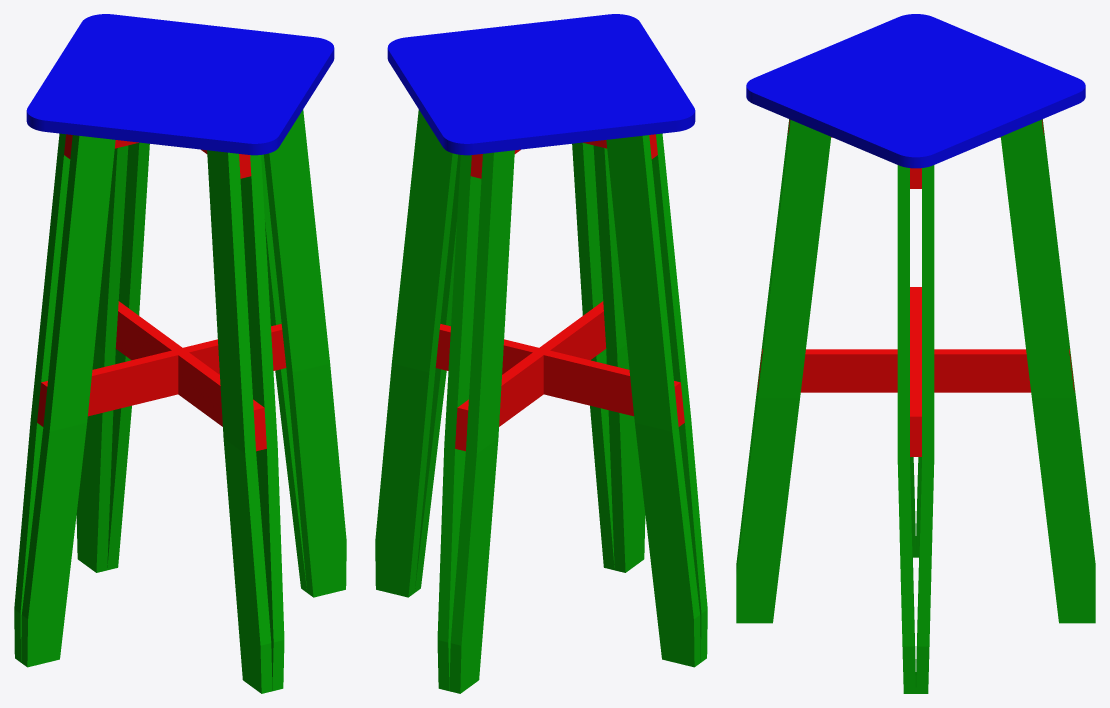
File: result.glb
3 renders of one model, left to right at view 1: azimuth 30°, elevation 25°; view 2: azimuth 150°, elevation 25°; view 3: azimuth 270°, elevation 25°, orthographic. The views are drawn at different scales.
Parts seen in each view (by area): view 1: ac48f9e8-8bb6-4f81-831a-7cd6fb4d7293__undefined, fe015a66-c66c-4ea3-808d-b0f506a33c2c__undefined, d3e96c64-802b-464c-a111-dfe788569f4e__undefined, 36583a39-9d2e-48af-a6d2-12d490e0a09f__Box_4, 166d1673-d001-4867-9418-6f4d2232541b__undefined, 543e61d7-7302-45e4-ac6e-f7c158e616a3__Box_5, 884e3ac6-a865-431b-b126-b31f9aebac6e__Box_6, 19409530-9d16-4f0f-ab0e-cc562a161333__undefined, eeed9c0c-a567-4d40-8e46-22b95cea1e4b__undefined, 1a3212c1-8f36-4970-8743-89f870450ae2__undefined, 548effa3-df00-43dc-b87c-98258f3cf627__undefined, f84e4fed-e091-450c-b2a9-9f77f04cbf19__undefined (+1 smaller); view 2: 1a3212c1-8f36-4970-8743-89f870450ae2__undefined, e4e11fc0-a316-40ad-8a4a-af0a145b0a9e__undefined, 19409530-9d16-4f0f-ab0e-cc562a161333__undefined, 884e3ac6-a865-431b-b126-b31f9aebac6e__Box_6, 543e61d7-7302-45e4-ac6e-f7c158e616a3__Box_5, 36583a39-9d2e-48af-a6d2-12d490e0a09f__Box_4, eeed9c0c-a567-4d40-8e46-22b95cea1e4b__undefined, d3e96c64-802b-464c-a111-dfe788569f4e__undefined, 166d1673-d001-4867-9418-6f4d2232541b__undefined, ac48f9e8-8bb6-4f81-831a-7cd6fb4d7293__undefined, 548effa3-df00-43dc-b87c-98258f3cf627__undefined, f84e4fed-e091-450c-b2a9-9f77f04cbf19__undefined (+1 smaller); view 3: eeed9c0c-a567-4d40-8e46-22b95cea1e4b__undefined, 166d1673-d001-4867-9418-6f4d2232541b__undefined, 884e3ac6-a865-431b-b126-b31f9aebac6e__Box_6, 543e61d7-7302-45e4-ac6e-f7c158e616a3__Box_5, 36583a39-9d2e-48af-a6d2-12d490e0a09f__Box_4, f84e4fed-e091-450c-b2a9-9f77f04cbf19__undefined, fe015a66-c66c-4ea3-808d-b0f506a33c2c__undefined, e4e11fc0-a316-40ad-8a4a-af0a145b0a9e__undefined, 548effa3-df00-43dc-b87c-98258f3cf627__undefined, 19409530-9d16-4f0f-ab0e-cc562a161333__undefined, d3e96c64-802b-464c-a111-dfe788569f4e__undefined.
Part boxes in pixels (x1=…): ac48f9e8-8bb6-4f81-831a-7cd6fb4d7293__undefined: x1=21, y1=135, x2=115, y2=667; fe015a66-c66c-4ea3-808d-b0f506a33c2c__undefined: x1=264, y1=109, x2=346, y2=597; d3e96c64-802b-464c-a111-dfe788569f4e__undefined: x1=207, y1=150, x2=272, y2=693; 36583a39-9d2e-48af-a6d2-12d490e0a09f__Box_4: x1=26, y1=82, x2=294, y2=155; 166d1673-d001-4867-9418-6f4d2232541b__undefined: x1=240, y1=155, x2=284, y2=691; 543e61d7-7302-45e4-ac6e-f7c158e616a3__Box_5: x1=44, y1=47, x2=317, y2=121; 884e3ac6-a865-431b-b126-b31f9aebac6e__Box_6: x1=66, y1=14, x2=334, y2=86; 19409530-9d16-4f0f-ab0e-cc562a161333__undefined: x1=76, y1=145, x2=128, y2=572; eeed9c0c-a567-4d40-8e46-22b95cea1e4b__undefined: x1=107, y1=142, x2=149, y2=570; 1a3212c1-8f36-4970-8743-89f870450ae2__undefined: x1=14, y1=133, x2=70, y2=662; 548effa3-df00-43dc-b87c-98258f3cf627__undefined: x1=37, y1=324, x2=286, y2=426; f84e4fed-e091-450c-b2a9-9f77f04cbf19__undefined: x1=115, y1=301, x2=266, y2=451; 1a3212c1-8f36-4970-8743-89f870450ae2__undefined: x1=606, y1=135, x2=700, y2=667; e4e11fc0-a316-40ad-8a4a-af0a145b0a9e__undefined: x1=375, y1=109, x2=457, y2=597; 19409530-9d16-4f0f-ab0e-cc562a161333__undefined: x1=449, y1=150, x2=514, y2=693; 884e3ac6-a865-431b-b126-b31f9aebac6e__Box_6: x1=387, y1=30, x2=533, y2=155; 543e61d7-7302-45e4-ac6e-f7c158e616a3__Box_5: x1=466, y1=21, x2=616, y2=147; 36583a39-9d2e-48af-a6d2-12d490e0a09f__Box_4: x1=550, y1=14, x2=695, y2=138; eeed9c0c-a567-4d40-8e46-22b95cea1e4b__undefined: x1=437, y1=155, x2=481, y2=691; d3e96c64-802b-464c-a111-dfe788569f4e__undefined: x1=593, y1=145, x2=645, y2=572; 166d1673-d001-4867-9418-6f4d2232541b__undefined: x1=572, y1=142, x2=614, y2=570; ac48f9e8-8bb6-4f81-831a-7cd6fb4d7293__undefined: x1=651, y1=133, x2=707, y2=662; 548effa3-df00-43dc-b87c-98258f3cf627__undefined: x1=435, y1=324, x2=684, y2=426; f84e4fed-e091-450c-b2a9-9f77f04cbf19__undefined: x1=455, y1=301, x2=606, y2=451; eeed9c0c-a567-4d40-8e46-22b95cea1e4b__undefined: x1=1000, y1=119, x2=1095, y2=623; 166d1673-d001-4867-9418-6f4d2232541b__undefined: x1=736, y1=119, x2=831, y2=623; 884e3ac6-a865-431b-b126-b31f9aebac6e__Box_6: x1=856, y1=60, x2=1085, y2=168; 543e61d7-7302-45e4-ac6e-f7c158e616a3__Box_5: x1=796, y1=35, x2=1035, y2=146; 36583a39-9d2e-48af-a6d2-12d490e0a09f__Box_4: x1=746, y1=14, x2=975, y2=121; f84e4fed-e091-450c-b2a9-9f77f04cbf19__undefined: x1=757, y1=349, x2=1074, y2=392; fe015a66-c66c-4ea3-808d-b0f506a33c2c__undefined: x1=897, y1=165, x2=915, y2=693; e4e11fc0-a316-40ad-8a4a-af0a145b0a9e__undefined: x1=916, y1=165, x2=934, y2=693; 548effa3-df00-43dc-b87c-98258f3cf627__undefined: x1=910, y1=287, x2=921, y2=456; 19409530-9d16-4f0f-ab0e-cc562a161333__undefined: x1=1042, y1=119, x2=1095, y2=568; d3e96c64-802b-464c-a111-dfe788569f4e__undefined: x1=736, y1=119, x2=789, y2=568.
Bounding box in the file's own units: 382 × 624 × 382.
